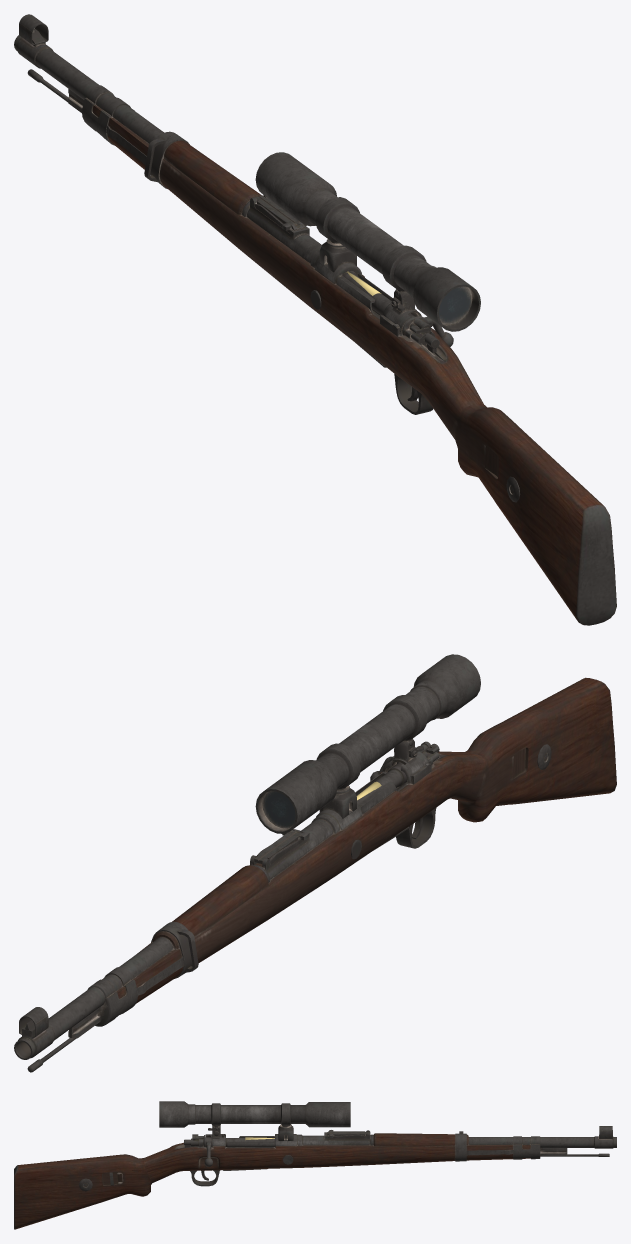
The model's file is weapon_springfield.glb.
The picture shows the model from 3 angles, top to bottom: view 1: azimuth 30°, elevation 25°; view 2: azimuth 150°, elevation 25°; view 3: azimuth 270°, elevation 25°; orthographic projection. The views are drawn at different scales.
Visible parts, largest first — view 1: Receiver, Bolt; view 2: Receiver, Bolt; view 3: Receiver, Bolt.
Boxes of the visible parts, x1,y1,x2,y2 form: Receiver: [14, 14, 616, 625]; Bolt: [342, 271, 453, 352]; Receiver: [14, 654, 616, 1072]; Bolt: [355, 741, 439, 804]; Receiver: [14, 1101, 616, 1229]; Bolt: [184, 1134, 274, 1166].
Size of the model in its own units: 0.069 by 0.2383 by 1.04.
3 materials, 2 textured.
